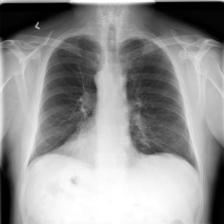normal: (24, 32, 200, 172)
